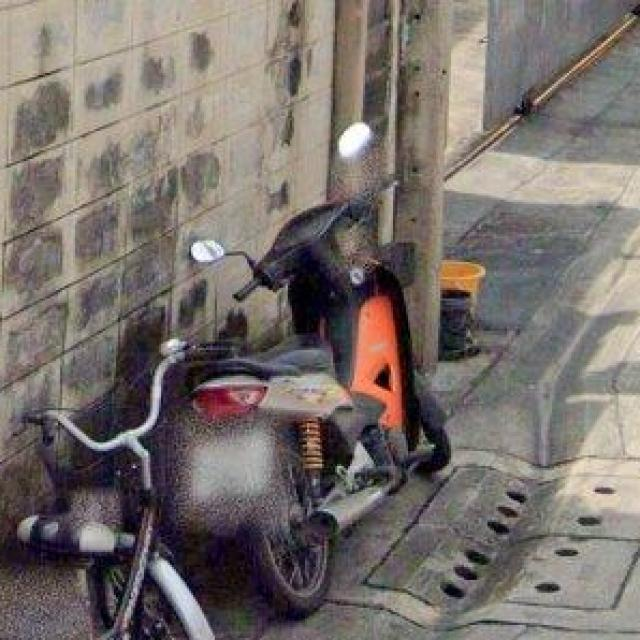bicycle: (1, 342, 216, 640)
